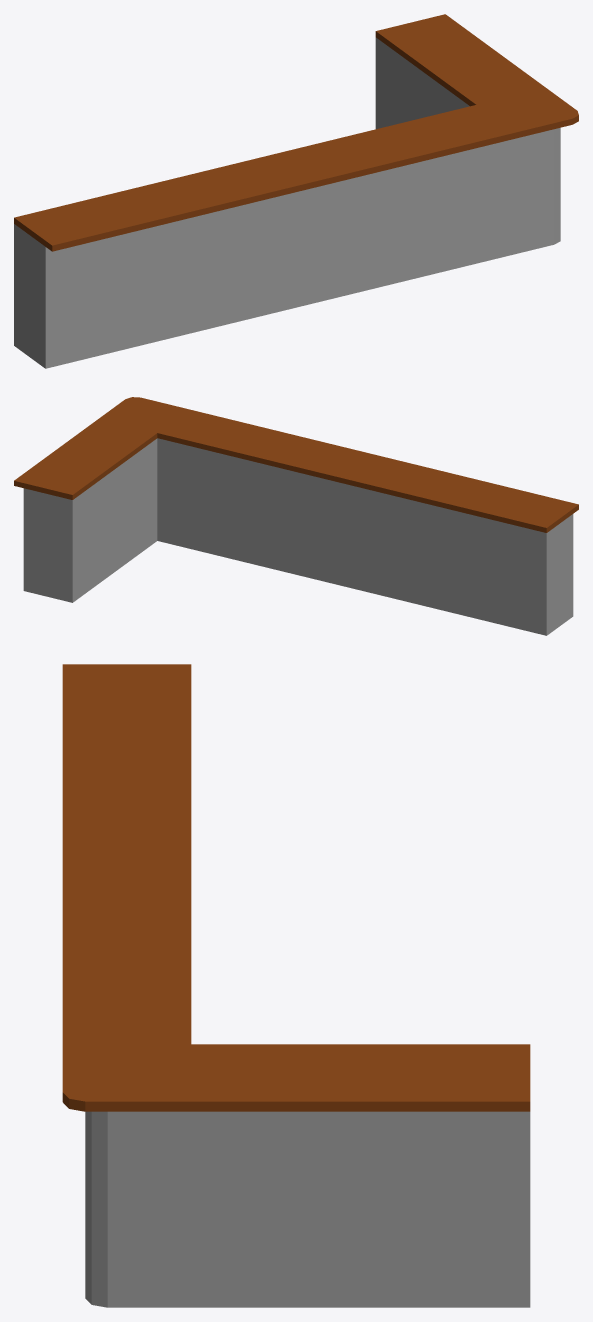
The model's file is Mesada.fbx.
The picture shows the model from 3 angles, top to bottom: view 1: azimuth 30°, elevation 25°; view 2: azimuth 150°, elevation 25°; view 3: azimuth 270°, elevation 25°; orthographic projection. The views are drawn at different scales.
Parts seen in each view (by area): view 1: Mesada; view 2: Mesada; view 3: Mesada.
Boxes of the visible parts, x1=… form: Mesada: x1=14, y1=14, x2=578, y2=368; Mesada: x1=14, y1=397, x2=578, y2=635; Mesada: x1=62, y1=664, x2=530, y2=1307.
Bounding box in the file's own units: 458 × 105 × 207.
